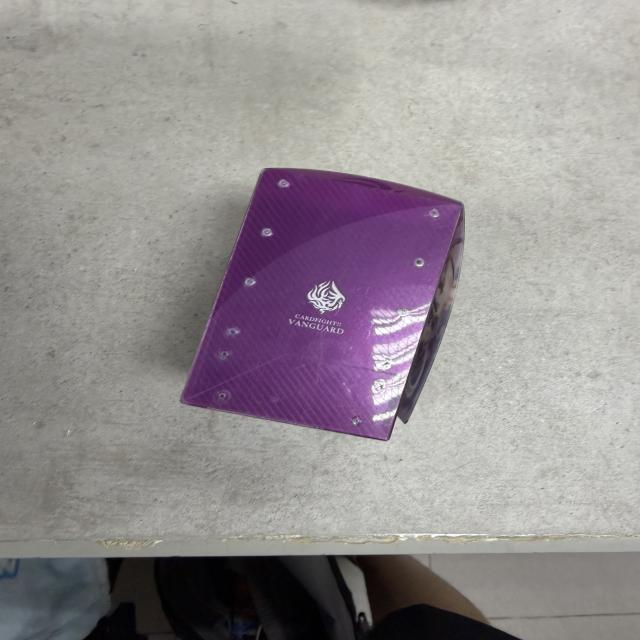box: (178, 162, 470, 448)
